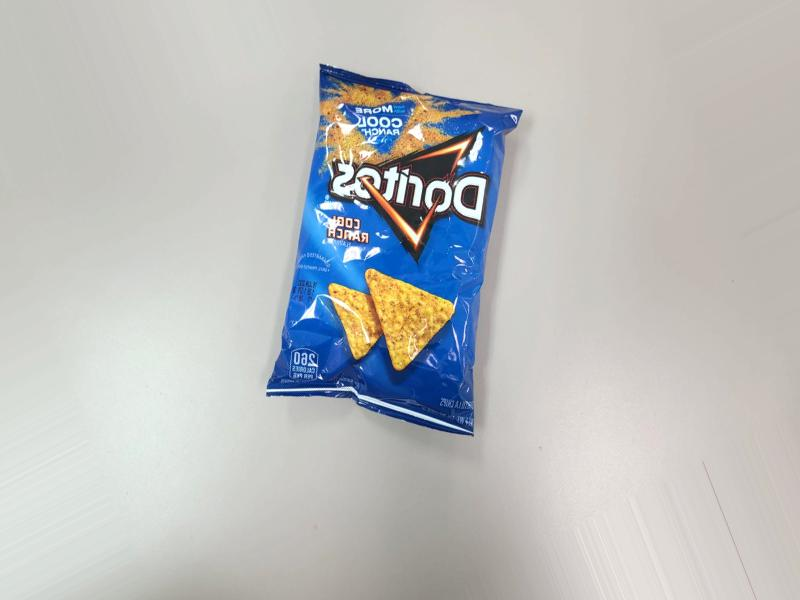doritos: (290, 70, 540, 447)
